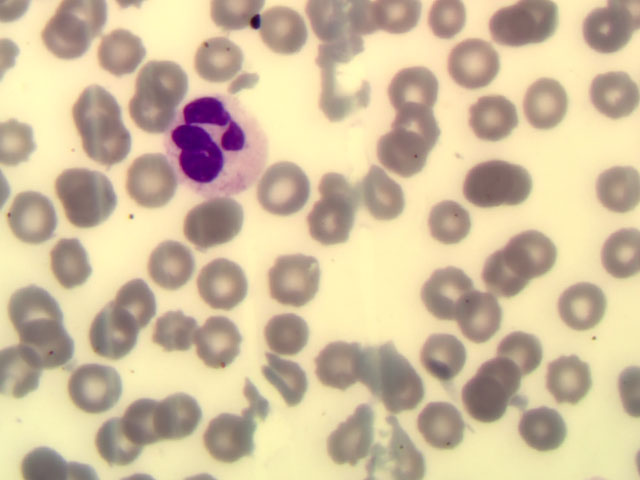RBC: (41, 15, 94, 66), (99, 27, 152, 78), (146, 57, 199, 108), (121, 88, 174, 139), (72, 77, 125, 128), (76, 115, 129, 166), (61, 175, 114, 226), (12, 192, 65, 243), (130, 152, 183, 203), (191, 193, 244, 244), (145, 237, 198, 288), (121, 272, 174, 323), (92, 308, 145, 359), (26, 319, 79, 370), (4, 285, 57, 336), (38, 245, 91, 296), (197, 257, 250, 308), (256, 250, 309, 301), (199, 311, 252, 362), (159, 309, 212, 360), (156, 399, 209, 450), (119, 400, 172, 451), (97, 423, 150, 474), (60, 361, 113, 412), (210, 414, 263, 465), (262, 352, 315, 403), (265, 306, 318, 357), (309, 342, 362, 393), (358, 347, 411, 398), (409, 394, 462, 445), (454, 381, 507, 432), (473, 352, 526, 403), (489, 324, 542, 375), (448, 286, 501, 337), (422, 273, 475, 324), (414, 339, 467, 390), (479, 248, 532, 299), (507, 231, 560, 282), (422, 200, 475, 251), (459, 160, 512, 211), (374, 131, 427, 182), (371, 168, 424, 219), (305, 194, 358, 245), (260, 162, 313, 213), (395, 88, 448, 139), (390, 60, 443, 111), (448, 39, 501, 90), (491, 8, 544, 59), (465, 94, 518, 145), (516, 73, 569, 124), (572, 70, 625, 121), (578, 10, 631, 61), (587, 174, 640, 225), (587, 230, 640, 281), (552, 282, 605, 333), (541, 355, 594, 406), (518, 408, 571, 459), (258, 6, 311, 57), (198, 34, 251, 85), (431, 1, 484, 52), (375, 1, 428, 51), (311, 1, 364, 51)
WBC: (166, 94, 273, 194)
